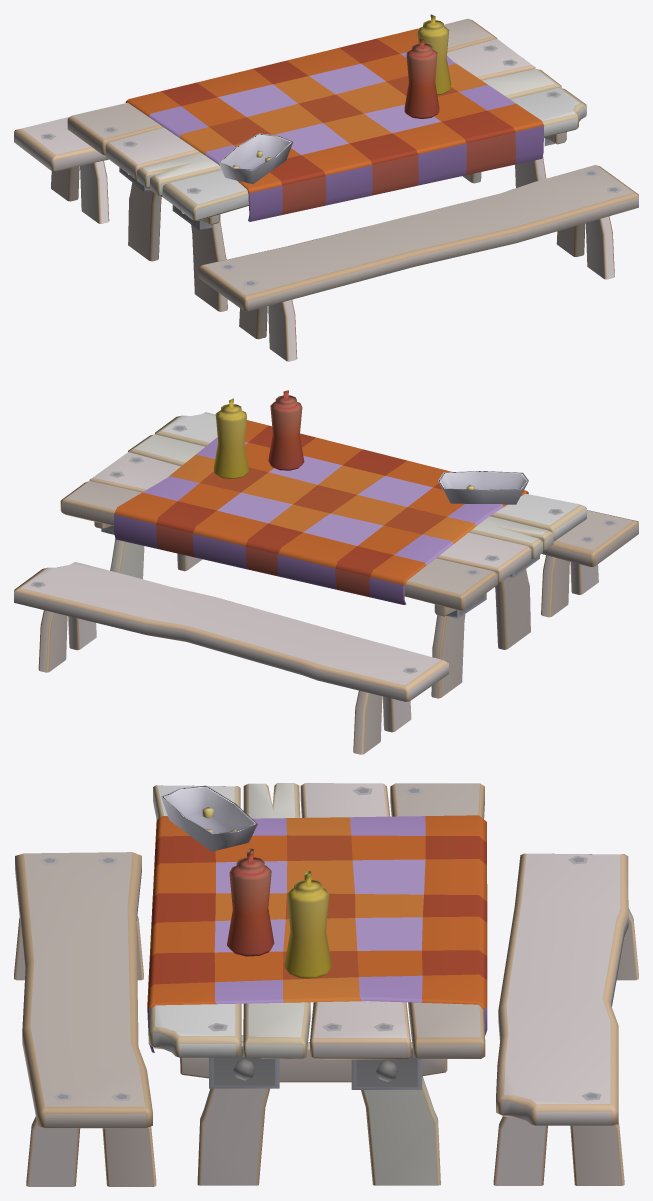
Rendered from PicnicTable_1.glb.
3 views of the same model, one above another, from view 1: azimuth 30°, elevation 25°; view 2: azimuth 150°, elevation 25°; view 3: azimuth 270°, elevation 25° (orthographic). The views are drawn at different scales.
Parts seen in each view (by area): view 1: PicnicTable; view 2: PicnicTable; view 3: PicnicTable.
Boxes of the visible parts, x1,y1,x2,y2 form: PicnicTable: (14, 14, 638, 361); PicnicTable: (14, 390, 638, 754); PicnicTable: (14, 783, 638, 1186).
Bounding box in the file's own units: 2 × 0.961 × 2.03.
